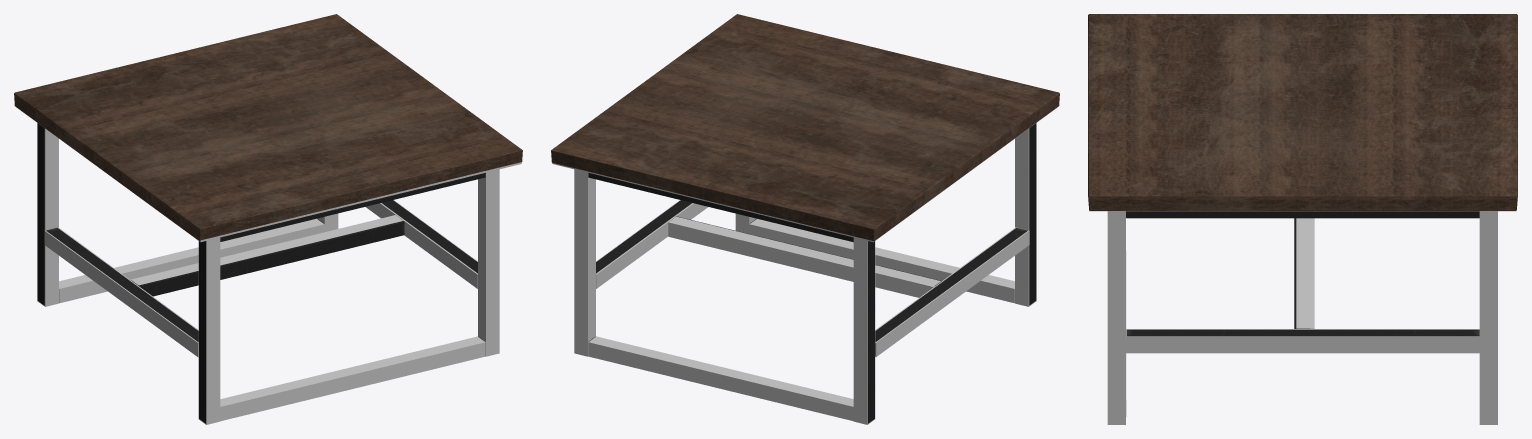
The model's file is SM_Table_01_B.fbx.
3 renders of one model, left to right at view 1: azimuth 30°, elevation 25°; view 2: azimuth 150°, elevation 25°; view 3: azimuth 270°, elevation 25°, orthographic. The views are drawn at different scales.
Parts seen in each view (by area): view 1: SM_Table_01_B, SM_Table_01_B_ConvexHulls; view 2: SM_Table_01_B, SM_Table_01_B_ConvexHulls; view 3: SM_Table_01_B, SM_Table_01_B_ConvexHulls.
Boxes of the visible parts, bbox=[...] form: SM_Table_01_B: bbox=[14, 14, 522, 423]; SM_Table_01_B_ConvexHulls: bbox=[15, 106, 521, 424]; SM_Table_01_B: bbox=[551, 14, 1059, 423]; SM_Table_01_B_ConvexHulls: bbox=[552, 106, 1058, 424]; SM_Table_01_B: bbox=[1088, 14, 1517, 336]; SM_Table_01_B_ConvexHulls: bbox=[1089, 210, 1516, 424].
Size of the model in its own units: 123 by 123 by 74.98.
